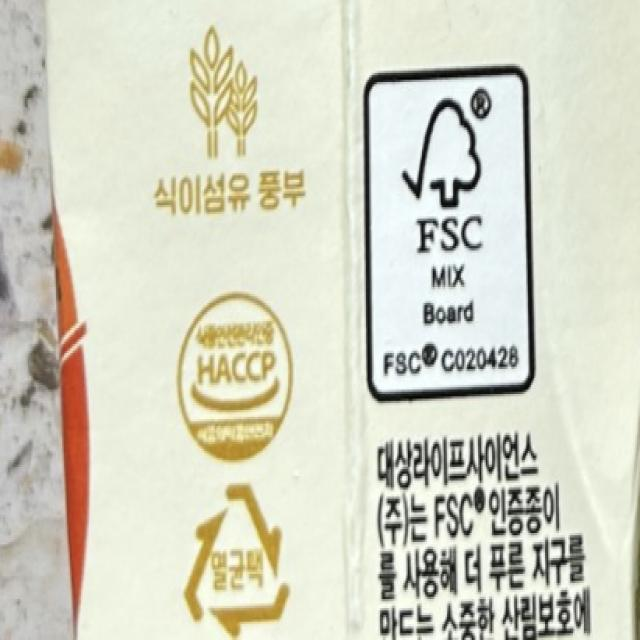SterilizedPack: (175, 470, 298, 640)
